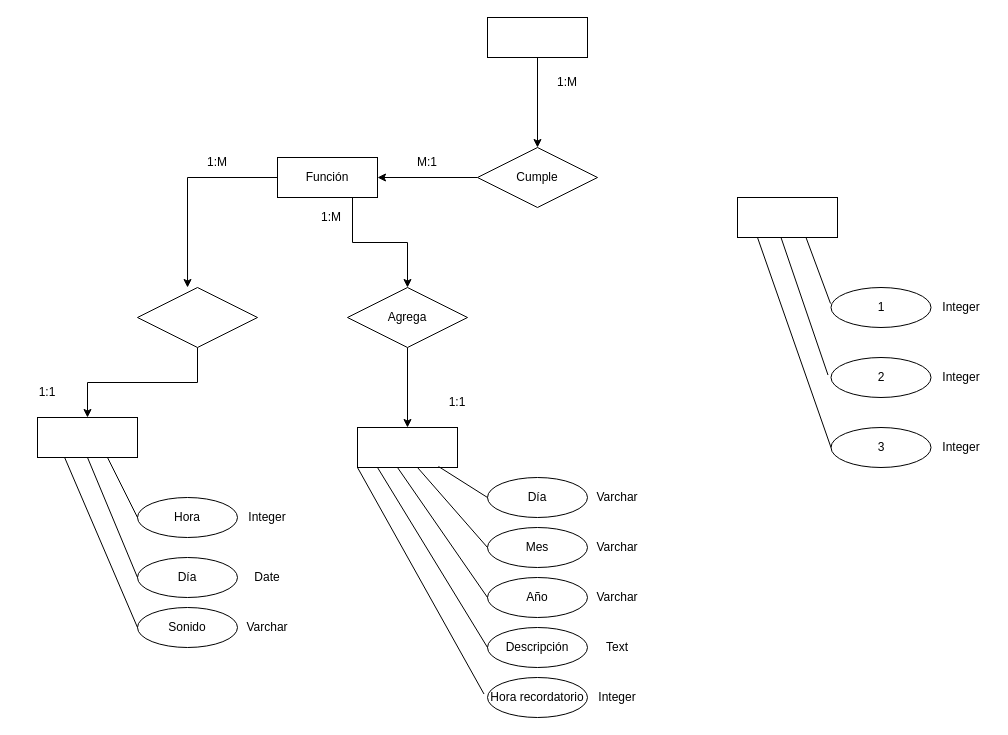
Image size: 1008x735. Some labels were removed from this diagram. Each missing label, with the centre of its shape:
Alarma: point (87, 437)
Asistente Virtual: point (537, 37)
Añade: point (197, 317)
Juegos: point (787, 217)
Recordatorio: point (407, 447)
